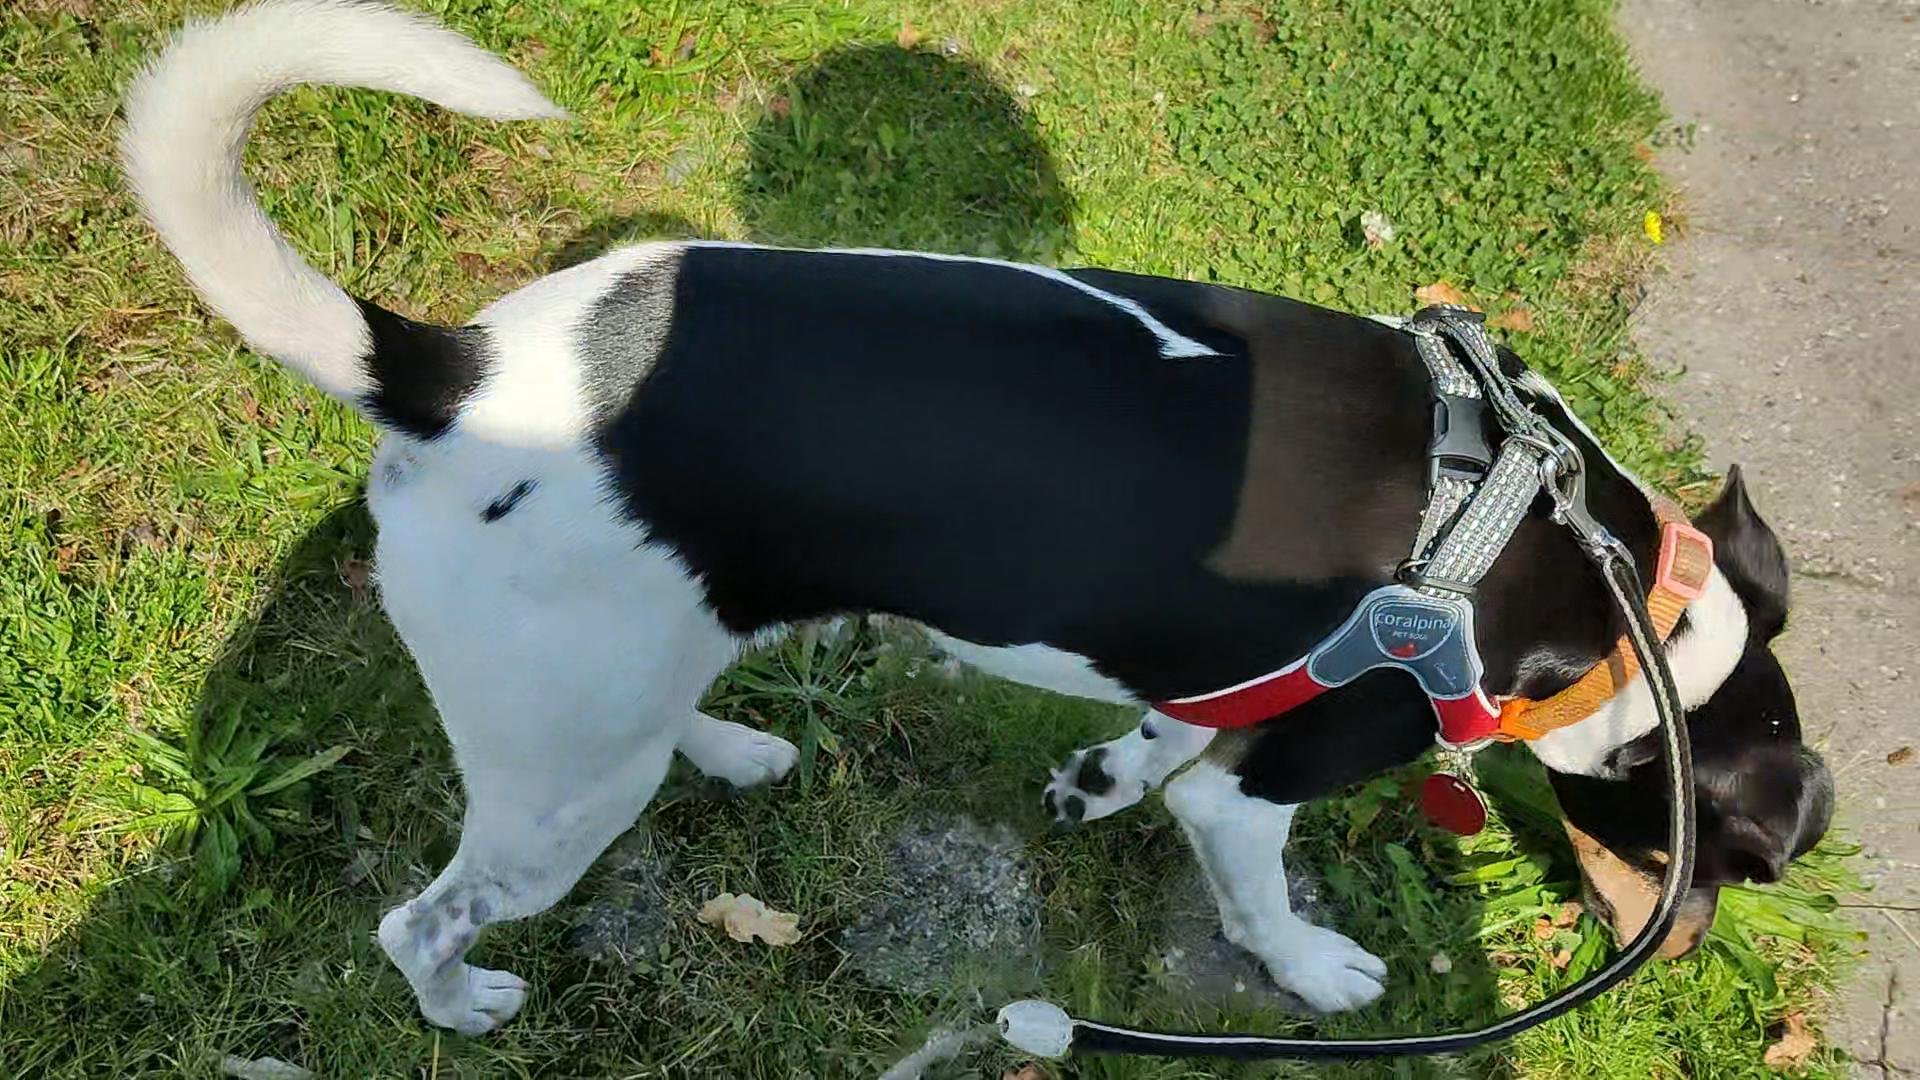Dog: (115, 0, 1836, 1036)
